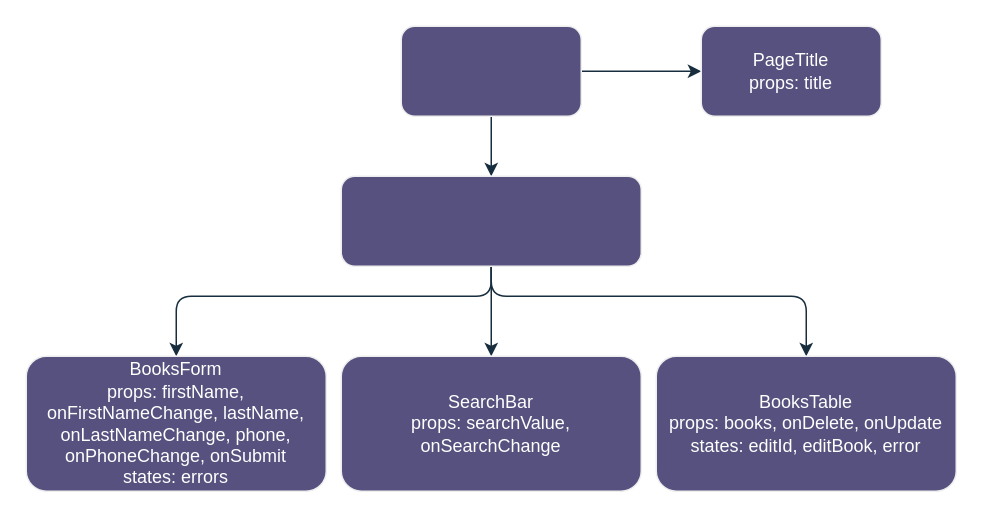
The diagram is 983 pixels wide and 518 high, and some of its shapes have lost their labels. The shapes that lost their labels are listed below. From the top down, each one's centre as x and y in pixels, then its label:
(490,70): App
(490,220): BooksContainer states: books, firstName, lastName, p hone, searchValue
